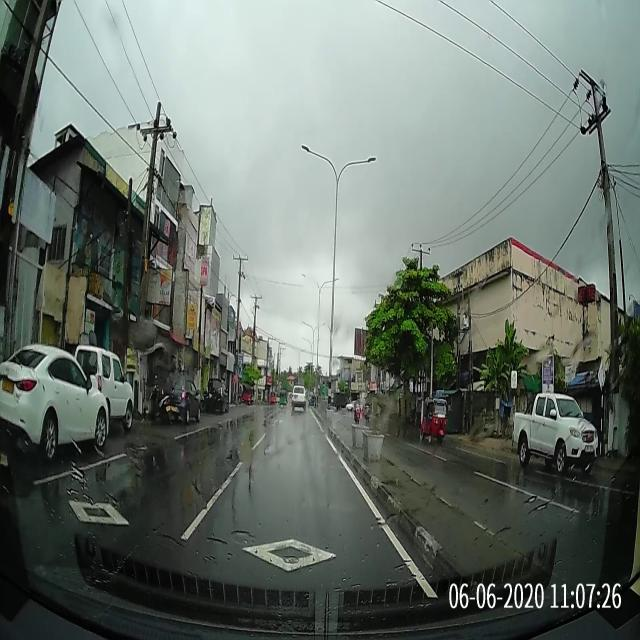Romb: (242, 538, 336, 572), (68, 500, 131, 525)
